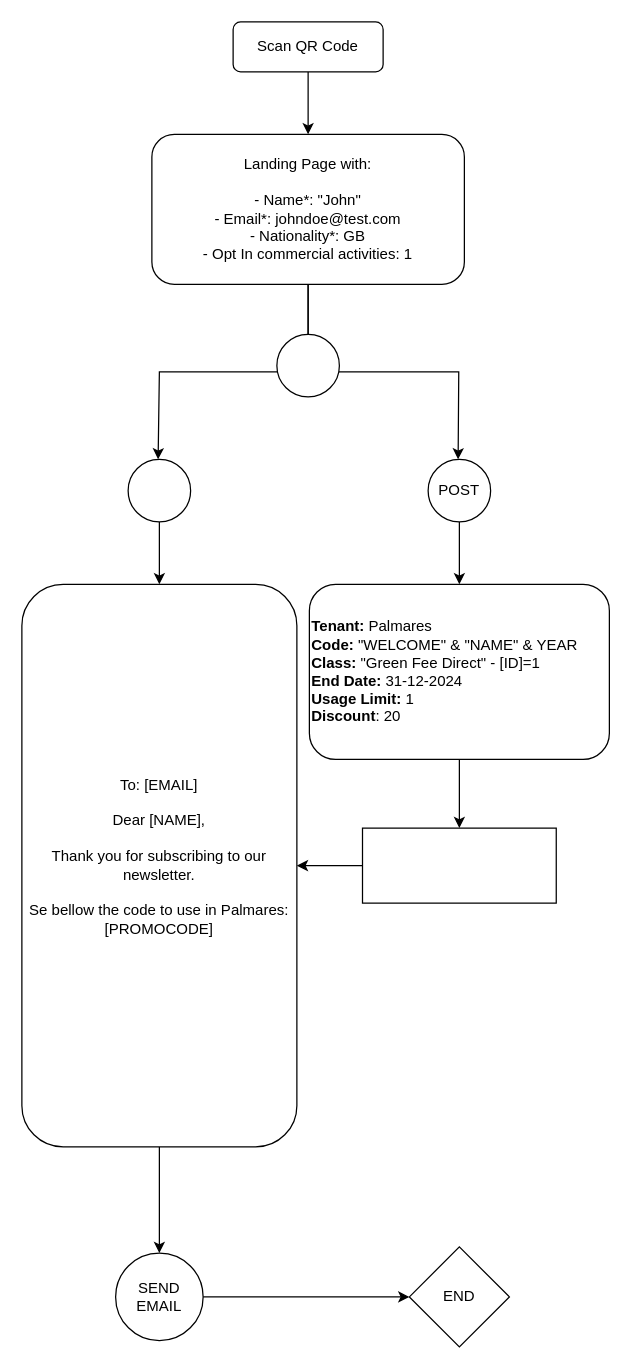
Some shapes in this 631 by 1369 pixel diagram are drawn without their labels. The shapes that lost their labels are listed below. From the top down, each one's box as (x1, y1, x2, y2) in pixels, then its label:
(276, 333, 339, 397): SUBMIT
(127, 458, 191, 522): EMAIL
(361, 827, 556, 903): PROMOCODE WELCOMEJOHN2024
